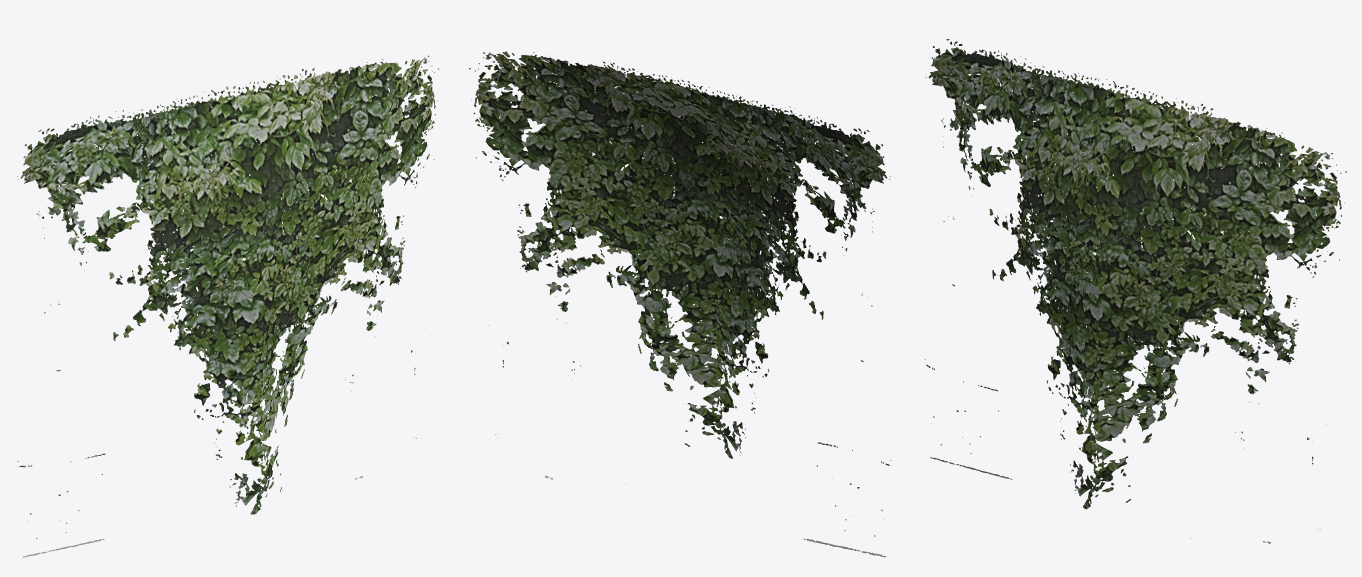
File: RV_Wall_Vines_03.fbx
3 views of the same model, side by side, from view 1: azimuth 30°, elevation 25°; view 2: azimuth 150°, elevation 25°; view 3: azimuth 330°, elevation 25° (orthographic).
Visible parts, largest first — view 1: RV_Wall_Vines_03; view 2: RV_Wall_Vines_03; view 3: RV_Wall_Vines_03.
Boxes of the visible parts, x1=… form: RV_Wall_Vines_03: x1=16, y1=55, x2=438, y2=557; RV_Wall_Vines_03: x1=469, y1=51, x2=891, y2=557; RV_Wall_Vines_03: x1=925, y1=39, x2=1346, y2=543.
Size of the model in its own units: 179 by 179 by 29.84.
